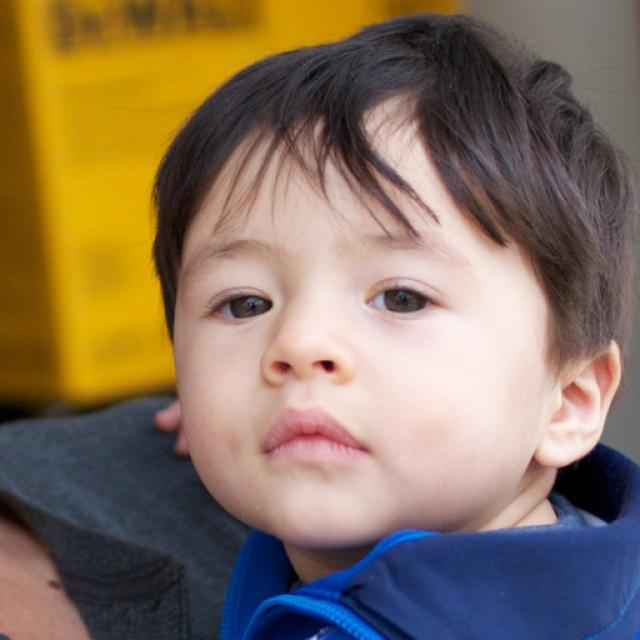sad: (0, 519, 101, 640)
